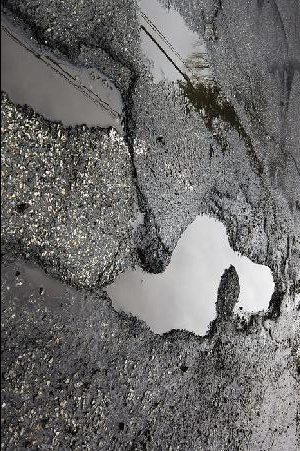pothole: (99, 206, 288, 343), (1, 0, 141, 154)
